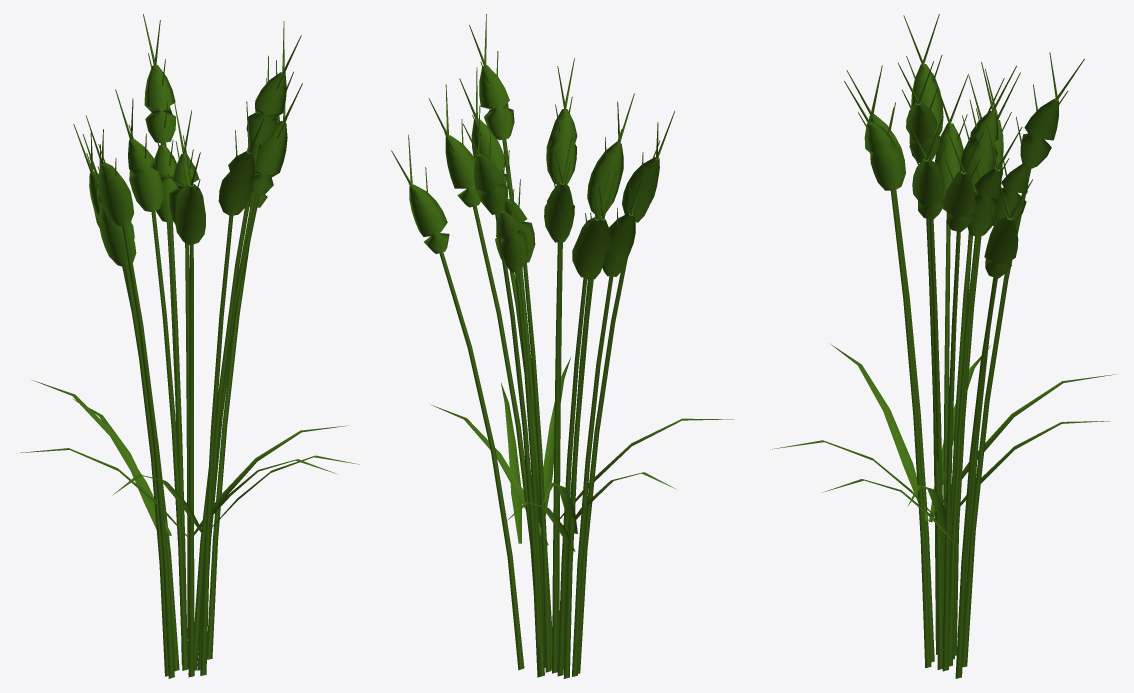
The model's file is Wheat_3.obj.
3 views of the same model, side by side, from view 1: azimuth 30°, elevation 25°; view 2: azimuth 150°, elevation 25°; view 3: azimuth 270°, elevation 25° (orthographic). The views are drawn at different scales.
Parts seen in each view (by area): view 1: Wheat_3; view 2: Wheat_3; view 3: Wheat_3.
Part boxes in pixels (left/top/right/bottom): Wheat_3: left=16, top=14, right=359, bottom=678; Wheat_3: left=391, top=14, right=733, bottom=678; Wheat_3: left=770, top=14, right=1117, bottom=678.
Size of the model in its own units: 0.5858 by 1.19 by 0.5846.
